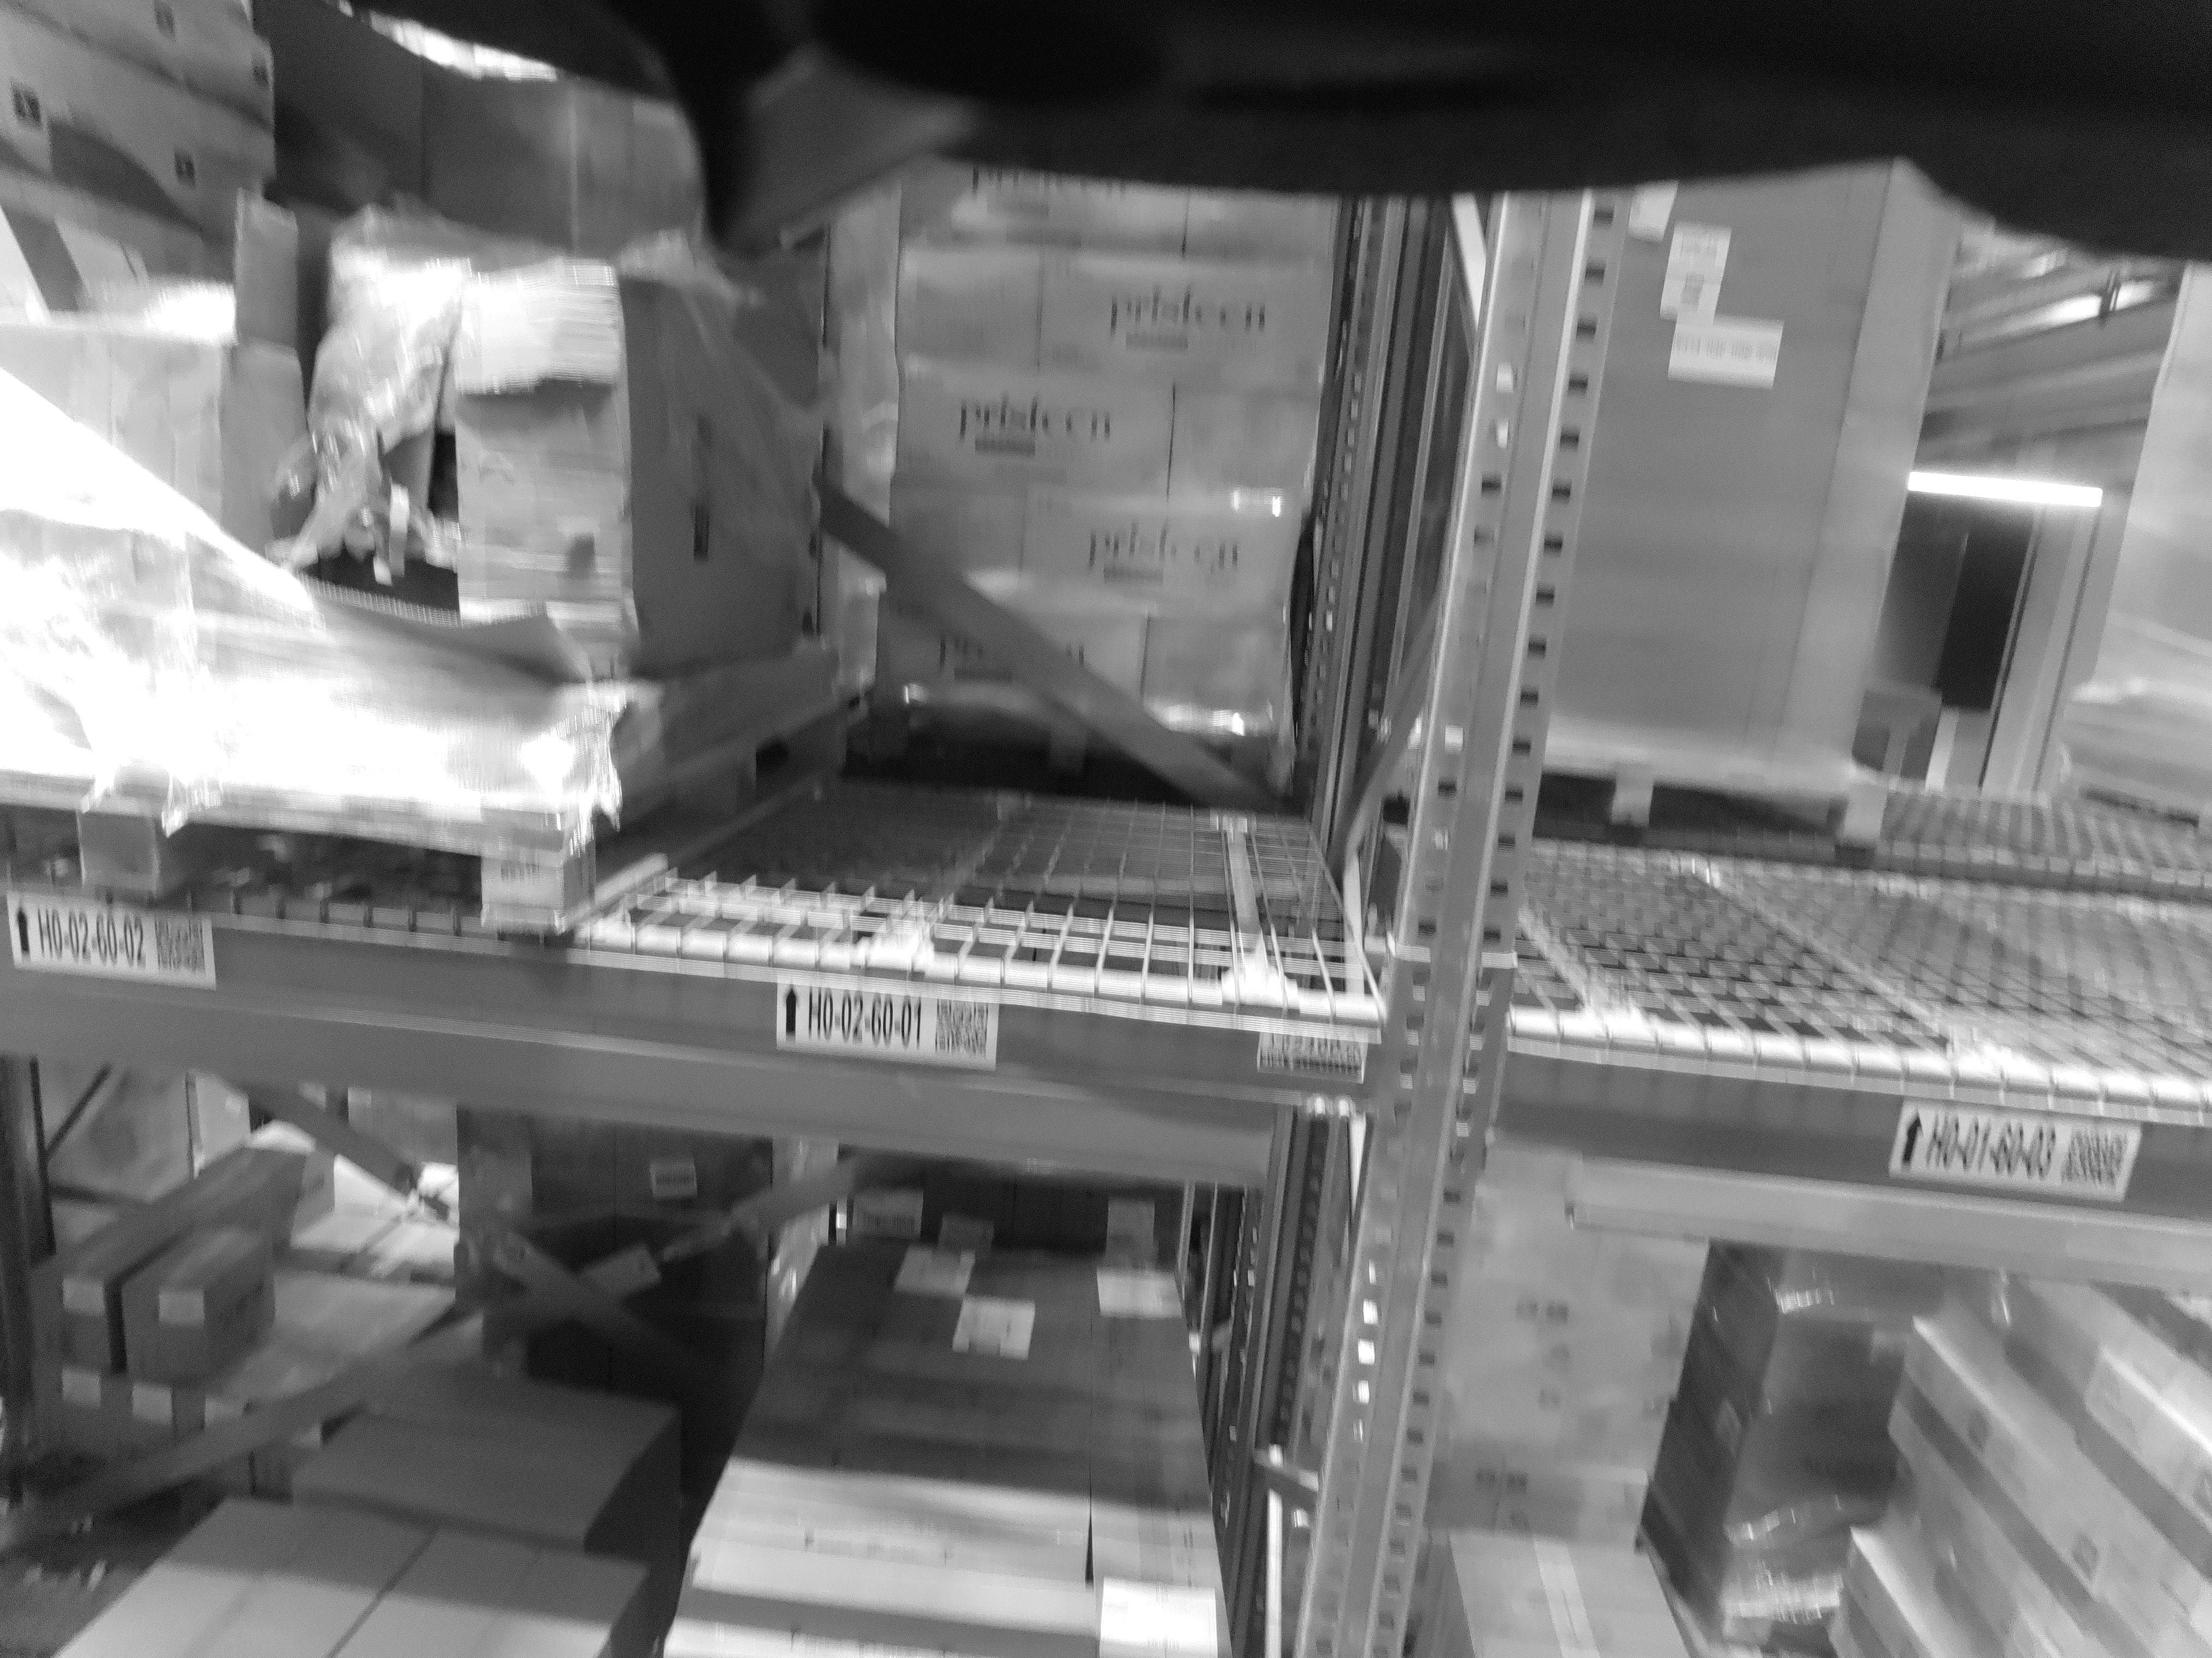empty-shelf: (1680, 207, 2181, 1025), (892, 194, 1320, 927)
